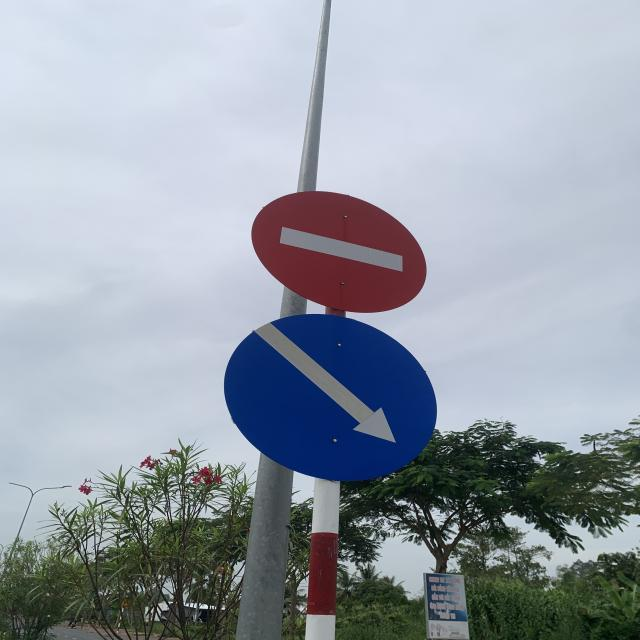Cam_Di_Nguoc_Chieu: (248, 192, 426, 312)
Chi_Huong_Di_Phai: (223, 310, 437, 483)
